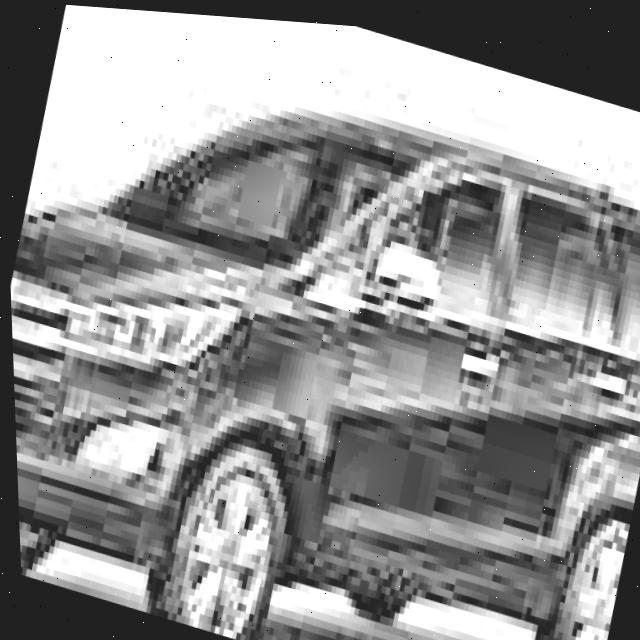light_vehicle: (0, 8, 640, 640)
